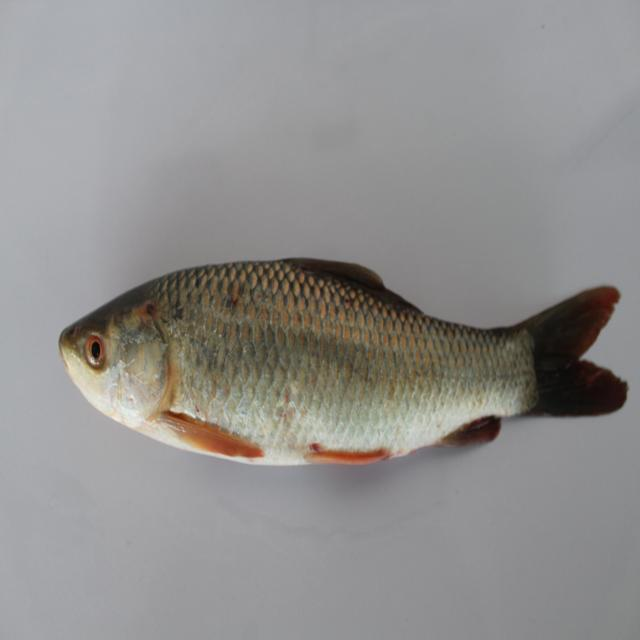Rohu: (71, 264, 623, 482)
